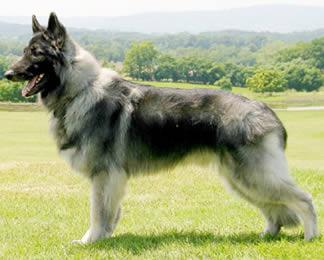German_shepherd: (6, 13, 320, 245)
